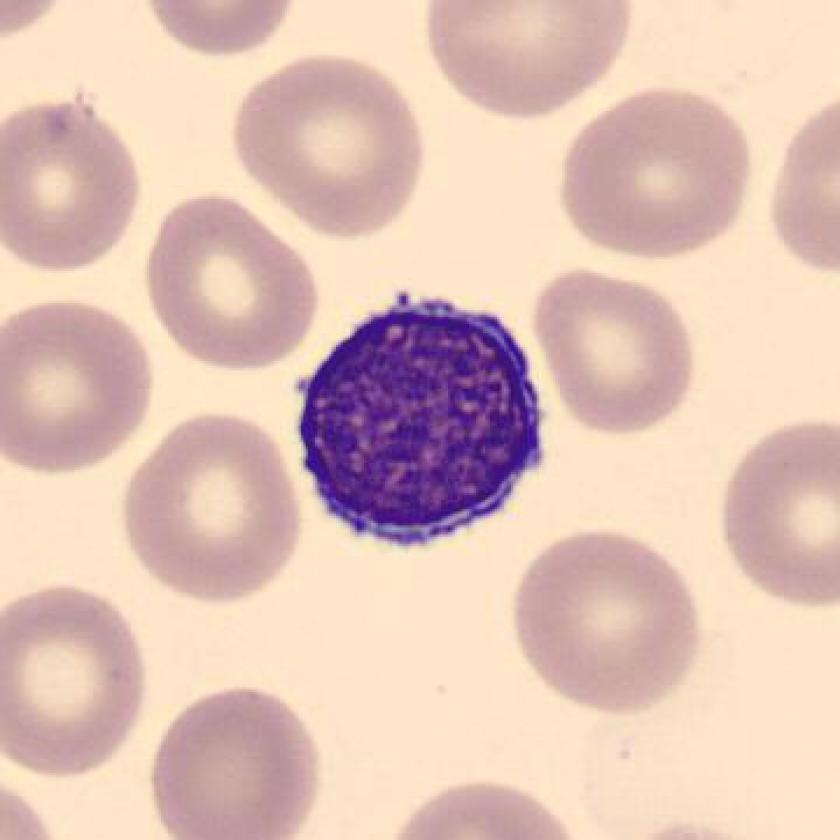lymphocyte: (281, 284, 568, 557)
